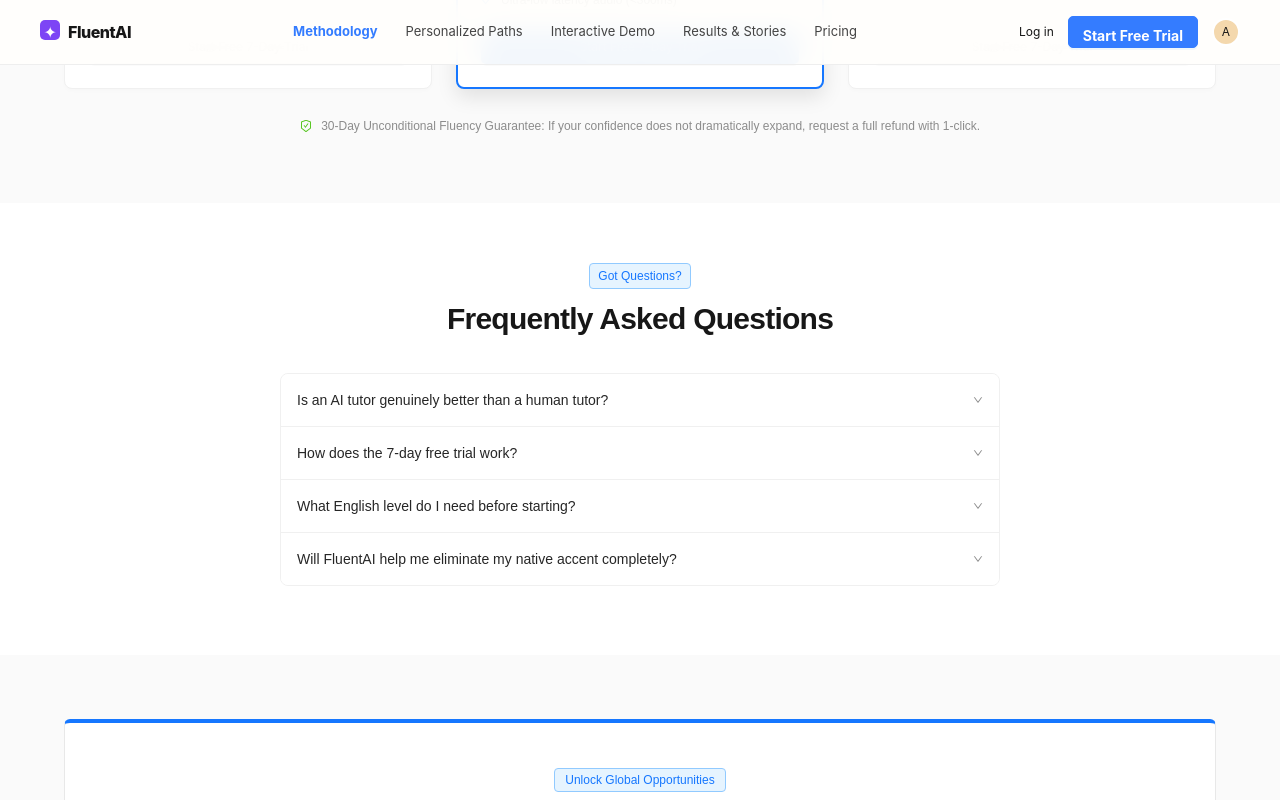
Test case: renders four ordered questions and the approved demo answer
The width and height of the screenshot is (1280, 800).
(page scrolled)
Click the button "Is an AI tutor genuinely better than a human tutor?". click: (453, 400)
box: [281,374,999,426]
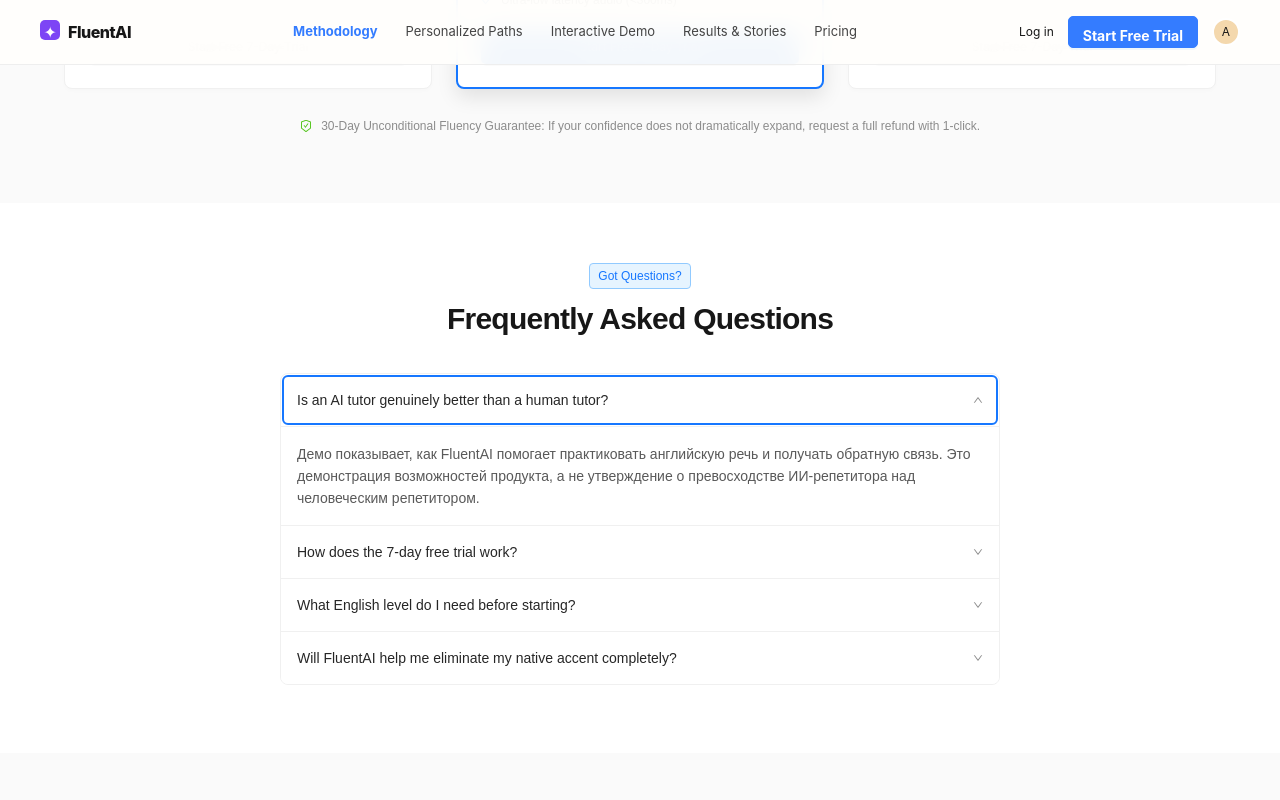
Now the text "Демо показывает, как FluentAI помогает практиковать английскую речь и получать обратную связь. Это демонстрация возможно" is shown, box [297,446,971,506]
